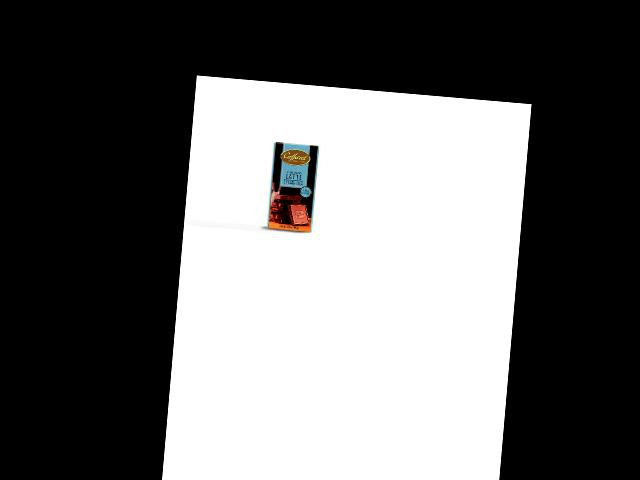chocolate: (264, 141, 320, 233)
